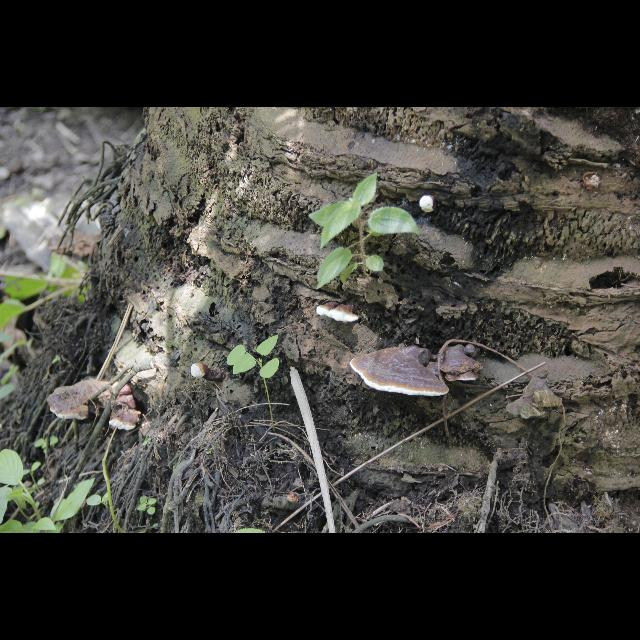ganoderma: (351, 348, 451, 399), (47, 381, 109, 422), (436, 345, 484, 383), (110, 386, 143, 433), (317, 303, 359, 324)
primordium: (420, 196, 438, 214), (192, 364, 209, 381)
